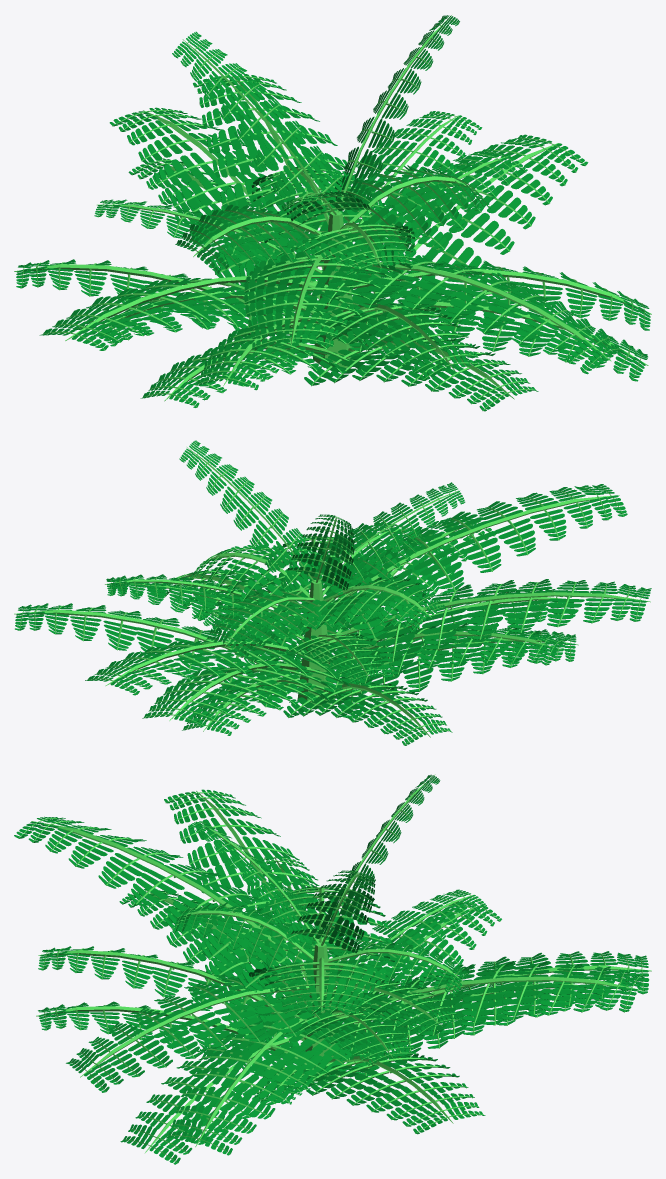
File: Samanbaia.fbx
3 renders of one model, top to bottom at view 1: azimuth 30°, elevation 25°; view 2: azimuth 150°, elevation 25°; view 3: azimuth 270°, elevation 25°, orthographic. The views are drawn at different scales.
Visible parts, largest first — view 1: Cylinder.001, Cylinder.006, Cylinder.014, Cylinder.011, Cylinder.004, Cylinder.008, Cylinder.007, Cylinder.020, Cylinder.016, Cylinder.002, Cylinder.017, Cylinder.003 (+13 smaller); view 2: Cylinder.011, Cylinder.004, Cylinder.001, Cylinder.002, Cylinder.008, Cylinder.020, Cylinder.013, Cylinder.022, Cylinder.007, Cylinder.010, Cylinder.012, Cylinder.015 (+13 smaller); view 3: Cylinder.006, Cylinder.011, Cylinder.003, Cylinder.020, Cylinder.004, Cylinder.002, Cylinder.001, Cylinder.008, Cylinder.007, Cylinder.023, Cylinder.017, Cylinder.019 (+12 smaller).
Boxes of the visible parts, x1,y1,x2,y2 form: Cylinder.001: (175,165,491,275); Cylinder.006: (320,251,623,374); Cylinder.014: (172,31,346,223); Cylinder.011: (244,250,412,349); Cylinder.004: (39,275,368,350); Cylinder.008: (298,134,588,352); Cylinder.007: (109,107,368,313); Cylinder.020: (193,74,399,283); Cylinder.016: (304,337,538,411); Cylinder.002: (251,167,414,275); Cylinder.017: (295,303,483,380); Cylinder.003: (348,260,651,330); Cylinder.011: (322,484,627,638); Cylinder.004: (327,579,651,674); Cylinder.001: (190,544,446,635); Cylinder.002: (206,522,429,656); Cylinder.008: (14,603,298,708); Cylinder.020: (85,640,341,695); Cylinder.013: (179,440,322,592); Cylinder.022: (324,623,567,692); Cylinder.007: (142,662,355,726); Cylinder.010: (283,683,452,745); Cylinder.012: (315,482,465,597); Cylinder.015: (337,629,578,718); Cylinder.006: (66,971,336,1092); Cylinder.011: (14,816,333,992); Cylinder.003: (166,1008,370,1155); Cylinder.020: (336,961,646,1060); Cylinder.004: (164,789,364,995); Cylinder.002: (172,902,468,996); Cylinder.001: (248,886,395,1013); Cylinder.008: (275,1052,485,1134); Cylinder.007: (347,951,651,1072); Cylinder.023: (120,1028,358,1164); Cylinder.017: (38,946,298,1046); Cylinder.019: (329,889,486,1008).
Bounding box in the file's own units: 130 × 56.45 × 124.
